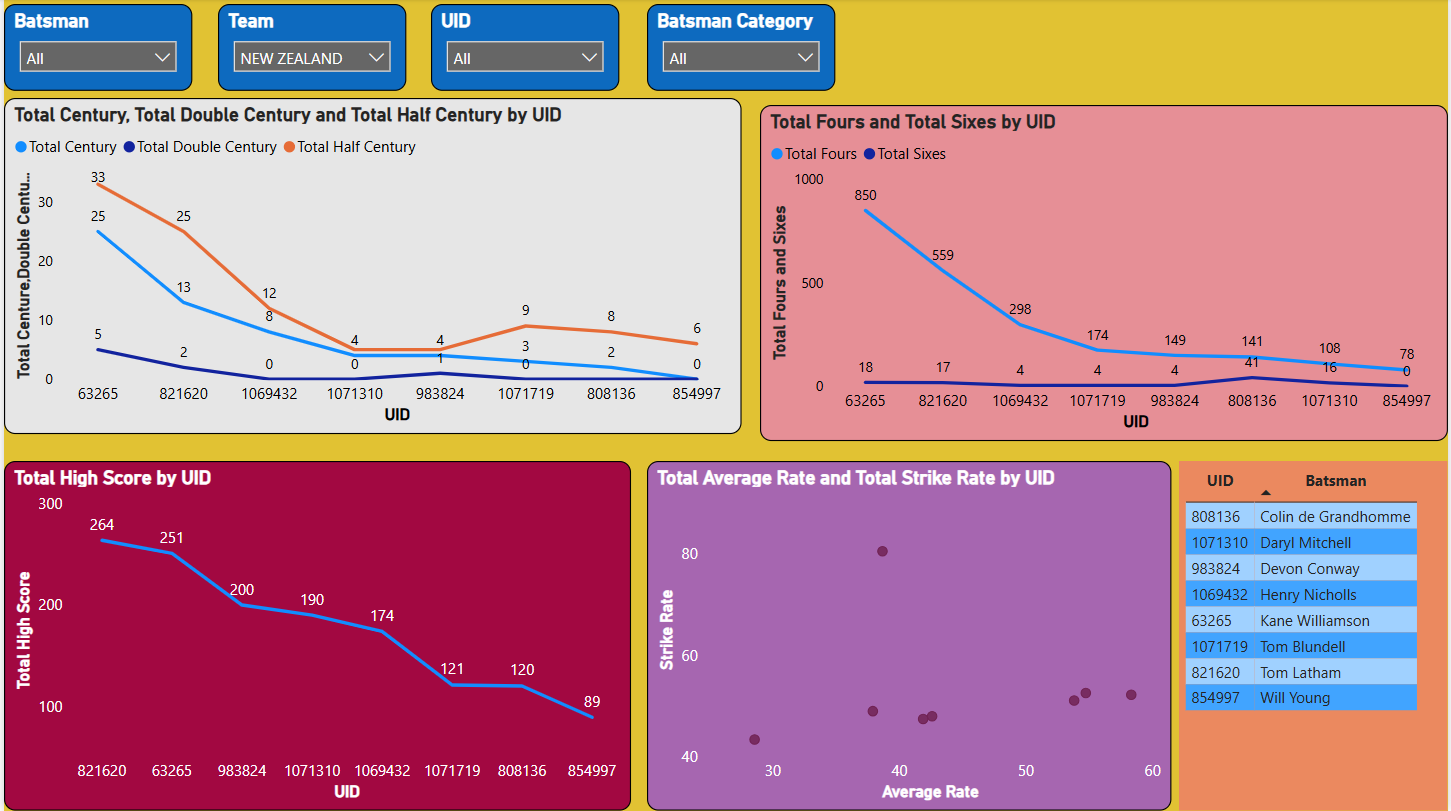

The dashboard page shown, as its layout file describes it:
{"tool":"powerbi","page":{"name":"Score Analysis by Batsman","canvas":[1280,720],"ordinal":3},"visuals":[{"type":"lineChart","fields":{"Y":["Sum(top100batsman.century)","Sum(top100batsman.double_century)","Sum(top100batsman.half_century)"],"Category":["top100batsman.UID"]},"box":[0,87.5,653.6,297.6],"z":0},{"type":"lineChart","fields":{"Y":["Sum(top100batsman.high_score)"],"Category":["top100batsman.UID"]},"box":[0,409.5,556.4,310.3],"z":1000},{"type":"lineChart","fields":{"Y":["Sum(top100batsman.fours)","Sum(top100batsman.sixes)"],"Category":["top100batsman.UID"]},"box":[670.2,94.3,609.8,297.6],"z":2000},{"type":"scatterChart","fields":{"X":["Sum(top100batsman.average)"],"Y":["top100batsman.strike_rate"],"Category":["top100batsman.UID"]},"box":[570,409.5,464.9,310.3],"z":3000},{"type":"slicer","title":"Team","fields":{"Values":["top100batsman.team"]},"box":[189.7,4.9,167.3,76.8],"z":4000},{"type":"slicer","title":"Batsman","fields":{"Values":["top100batsman.batsman"]},"box":[0,4.9,167.3,76.8],"z":5000},{"type":"slicer","title":"UID","fields":{"Values":["top100batsman.UID"]},"box":[378.4,4.9,167.3,76.8],"z":6000},{"type":"slicer","title":"Batsman Category","fields":{"Values":["top100batsman.Batsman Category"]},"box":[570,4.9,167.3,76.8],"z":7000},{"type":"tableEx","fields":{"Values":["top100batsman.UID","top100batsman.batsman"]},"box":[1041.7,409.5,238.3,310.3],"z":8000}]}

Visuals, with their boxes in screenshot pixels (x1, y1, x2, y2), scaled from the page's 1280x720 canvas onto the 1451x811 screenshot:
lineChart - Sum(top100batsman.century) x Sum(top100batsman.double_century): left=0, top=99, right=741, bottom=434
lineChart - Sum(top100batsman.high_score) x top100batsman.UID: left=0, top=461, right=631, bottom=810
lineChart - Sum(top100batsman.fours) x Sum(top100batsman.sixes): left=760, top=106, right=1450, bottom=441
scatterChart - Sum(top100batsman.average) x top100batsman.strike_rate: left=646, top=461, right=1173, bottom=810
"Team" slicer: left=215, top=6, right=405, bottom=92
"Batsman" slicer: left=0, top=6, right=190, bottom=92
"UID" slicer: left=429, top=6, right=619, bottom=92
"Batsman Category" slicer: left=646, top=6, right=836, bottom=92
tableEx - top100batsman.UID x top100batsman.batsman: left=1181, top=461, right=1450, bottom=810
